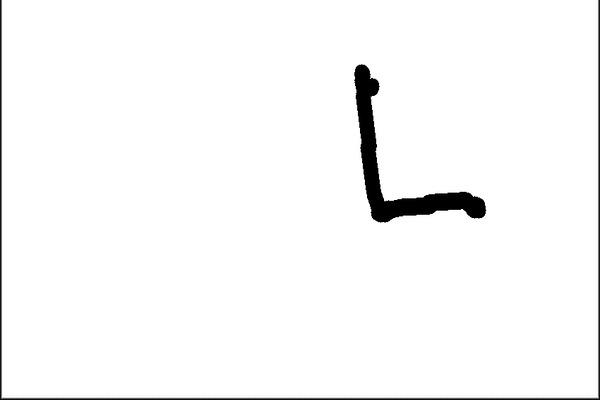L: (345, 54, 496, 233)
